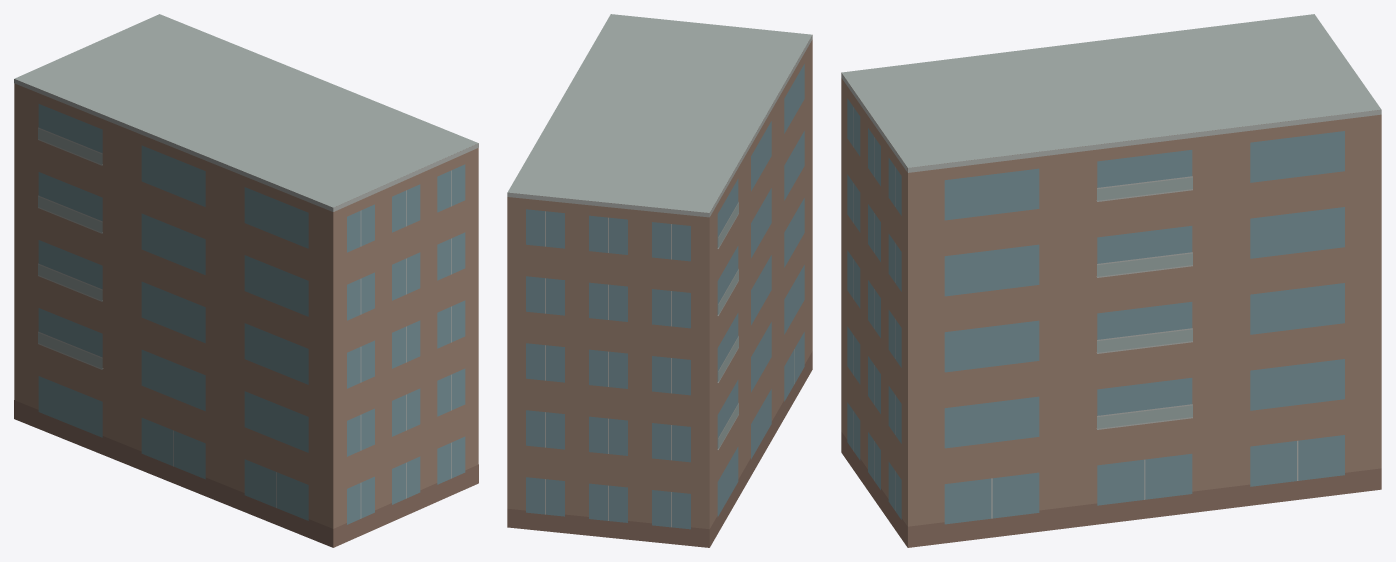
The model's file is survey-upis-32858728.glb.
3 renders of one model, left to right at view 1: azimuth 30°, elevation 25°; view 2: azimuth 150°, elevation 25°; view 3: azimuth 270°, elevation 25°, orthographic. The views are drawn at different scales.
Visible parts, largest first — view 1: survey-upis-32858728.tmp; view 2: survey-upis-32858728.tmp; view 3: survey-upis-32858728.tmp.
Boxes of the visible parts, x1,y1,x2,y2 form: survey-upis-32858728.tmp: (14,14,478,547); survey-upis-32858728.tmp: (507,14,812,547); survey-upis-32858728.tmp: (841,14,1381,547).
Size of the model in its own units: 16.09 by 18.5 by 23.85.
